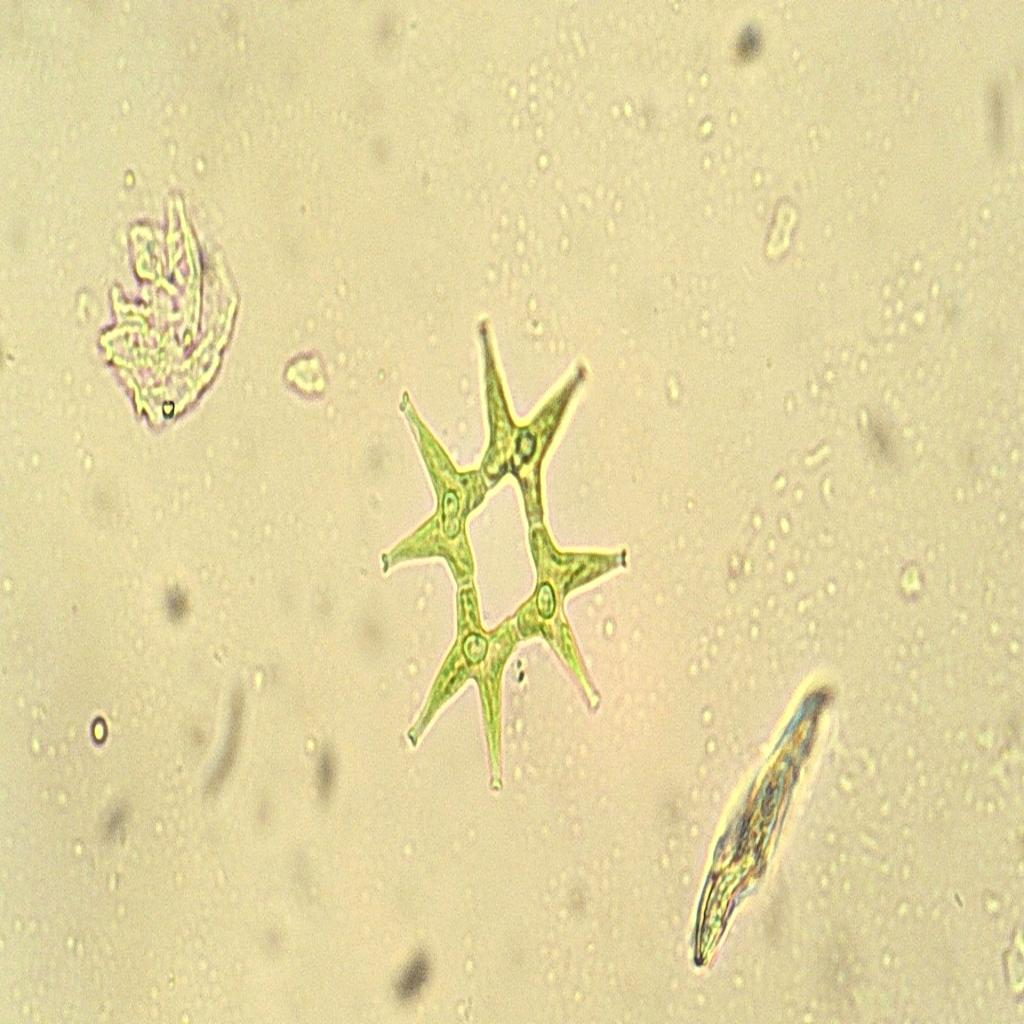Pediastrum_10: (360, 301, 647, 809)
